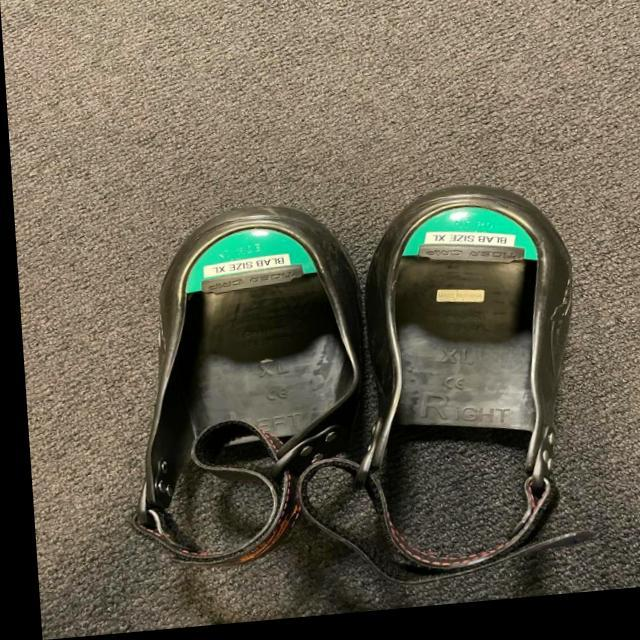shoes: (136, 196, 376, 577), (367, 187, 592, 576)
